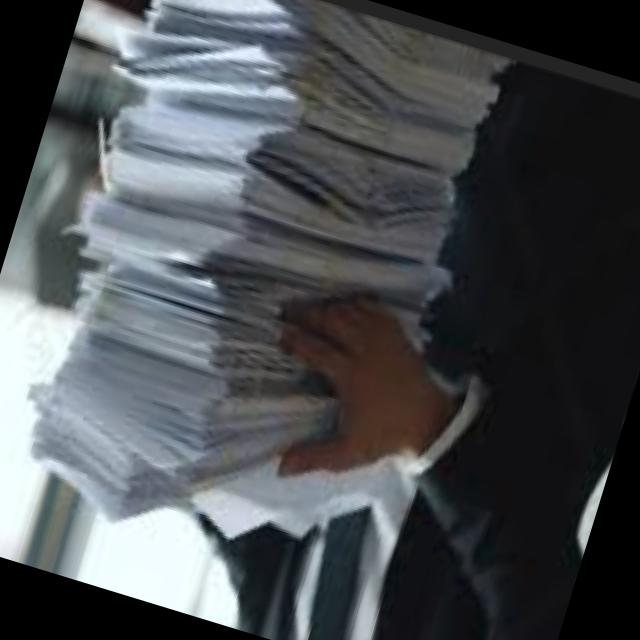KertasBekas: (0, 0, 514, 600)
